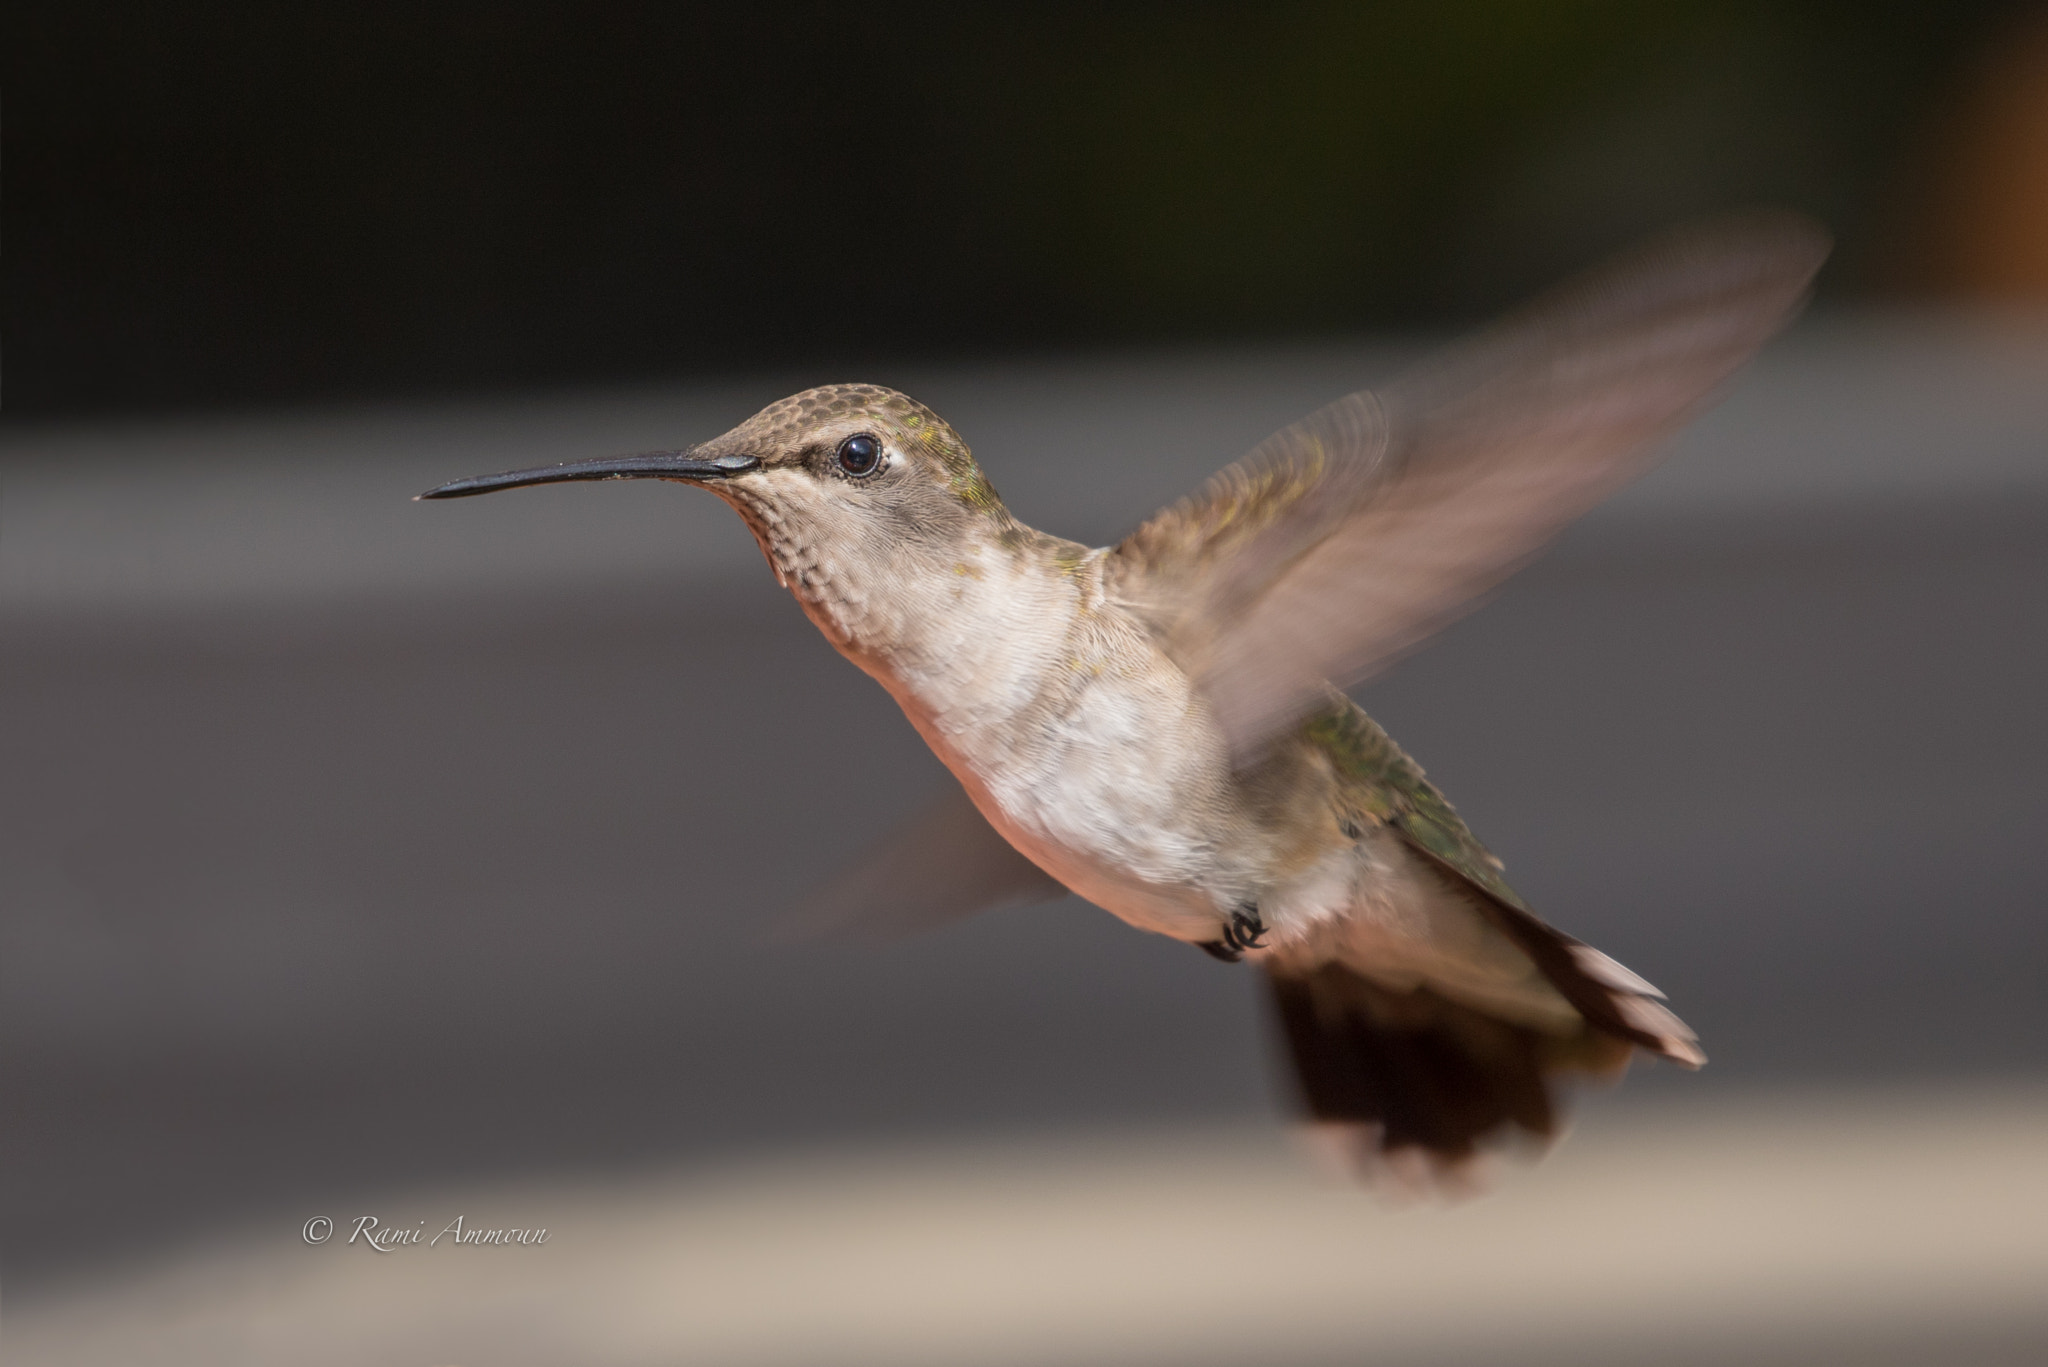archilochus alexandri: (407, 214, 1844, 1185)
